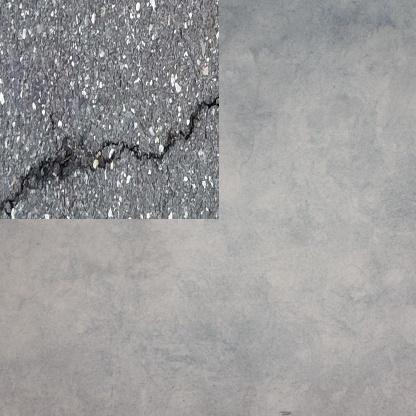Cracks: (0, 87, 202, 202)
